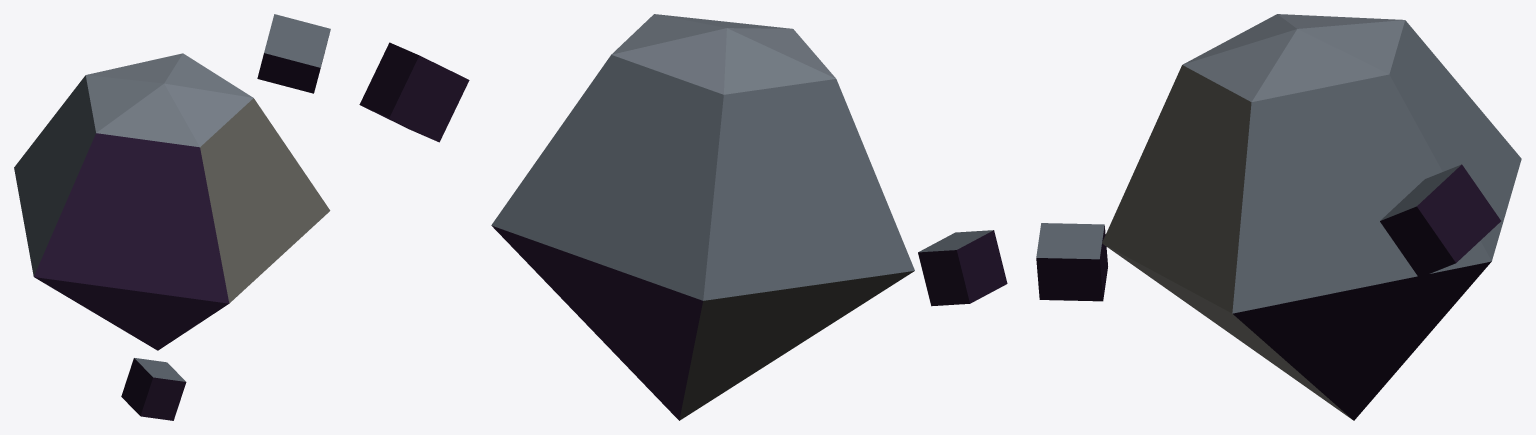
The model's file is floating-shard-a.glb.
The picture shows the model from 3 angles, left to right: view 1: azimuth 30°, elevation 25°; view 2: azimuth 150°, elevation 25°; view 3: azimuth 270°, elevation 25°; orthographic projection. The views are drawn at different scales.
Parts seen in each view (by area): view 1: FloatingShardA; view 2: FloatingShardA; view 3: FloatingShardA.
Boxes of the visible parts, left/top/right/bottom form: FloatingShardA: left=14, top=14, right=330, bottom=420; FloatingShardA: left=359, top=14, right=1007, bottom=420; FloatingShardA: left=1036, top=14, right=1521, bottom=420.
Bounding box in the file's own units: 0.7728 × 0.5938 × 0.6835.
Materials: 1 (1 with a texture image).
